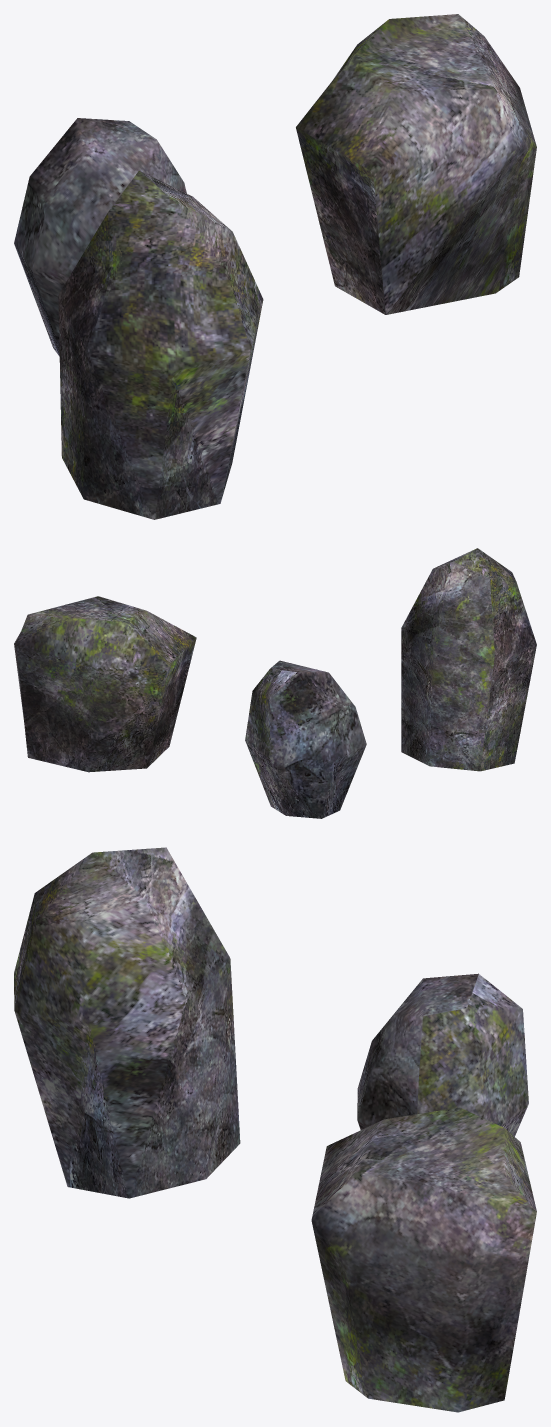
File: cairn_02_04_re.glb
3 renders of one model, top to bottom at view 1: azimuth 30°, elevation 25°; view 2: azimuth 150°, elevation 25°; view 3: azimuth 270°, elevation 25°, orthographic. The views are drawn at different scales.
Visible parts, largest first — view 1: cairn_02_04; view 2: cairn_02_04; view 3: cairn_02_04.
Boxes of the visible parts, bbox=[...] form: cairn_02_04: bbox=[14, 14, 536, 519]; cairn_02_04: bbox=[14, 548, 536, 818]; cairn_02_04: bbox=[14, 847, 536, 1412].
Size of the model in its own units: 17.72 by 8.53 by 12.55.
1 material, 1 textured.
